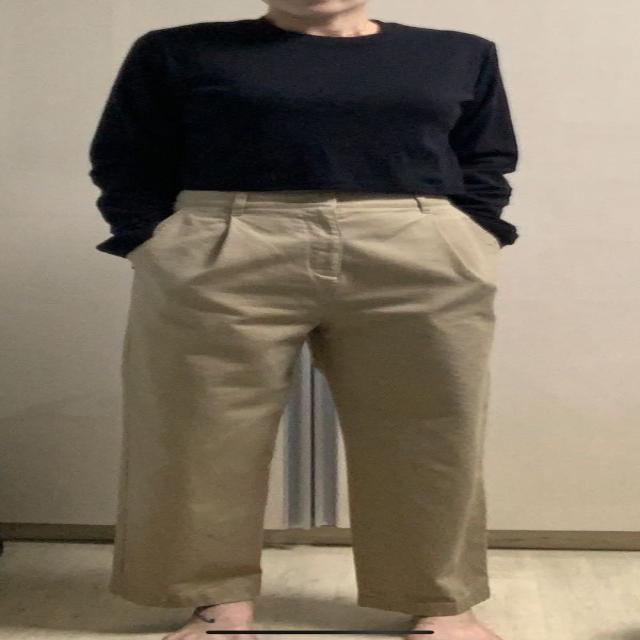cottonpants: (109, 194, 499, 629)
longsleeve: (83, 15, 520, 252)
